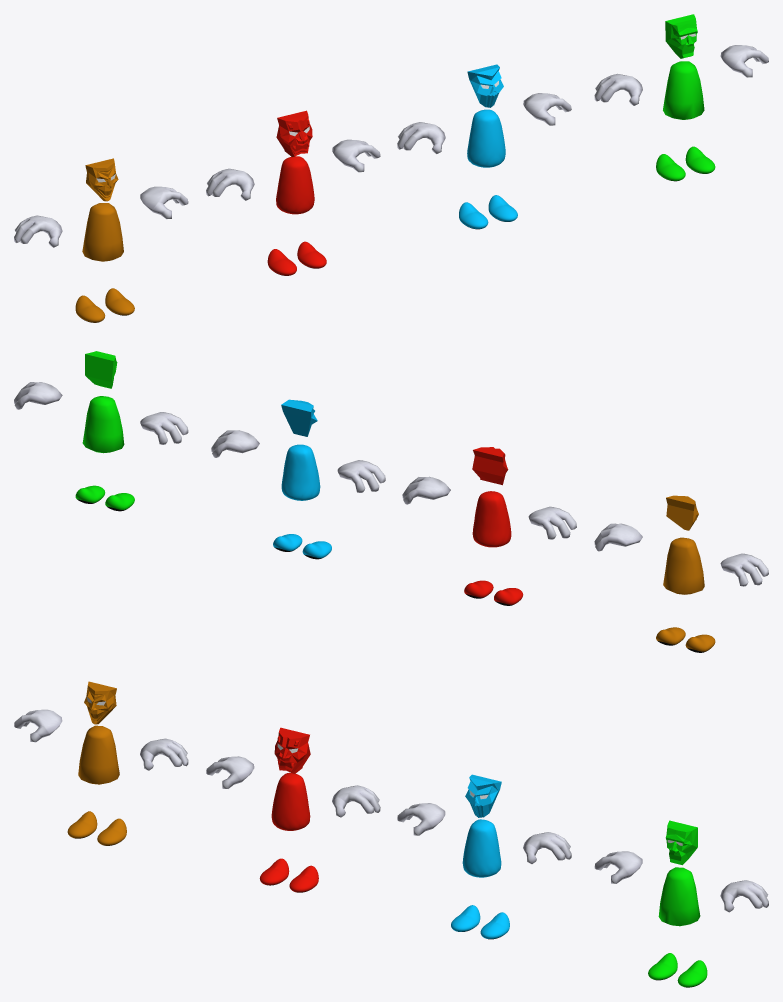
The model's file is 4perso.fbx.
The picture shows the model from 3 angles, top to bottom: view 1: azimuth 30°, elevation 25°; view 2: azimuth 150°, elevation 25°; view 3: azimuth 330°, elevation 25°; orthographic projection.
Visible parts, largest first — view 1: Halloween Joker Mask, Rayman.004_Rayman.003, Sphere.006, Sphere.007, Halloween Demon Mask.001, Halloween Frankenstein Mask.001, Halloween Ghost Mask.001, Halloween Joker Mask.007, Rayman.003, Rayman.002, Rayman.004, Halloween Joker Mask.009 (+4 smaller); view 2: Halloween Joker Mask, Rayman.004_Rayman.003, Sphere.007, Sphere.006, Halloween Demon Mask.001, Rayman.004, Halloween Joker Mask.009, Rayman.002, Rayman.003, Halloween Frankenstein Mask.001, Halloween Ghost Mask.001, Rayman.005 (+4 smaller); view 3: Rayman.004_Rayman.003, Halloween Joker Mask, Sphere.006, Sphere.007, Halloween Demon Mask.001, Halloween Frankenstein Mask.001, Halloween Ghost Mask.001, Halloween Joker Mask.007, Rayman.001, Halloween Joker Mask.008, Rayman.006, Rayman.005 (+4 smaller).
Boxes of the visible parts, x1,y1,x2,y2 form: Halloween Joker Mask: [75, 203, 134, 322]; Rayman.004_Rayman.003: [656, 61, 715, 181]; Sphere.006: [267, 156, 326, 275]; Sphere.007: [459, 109, 517, 229]; Halloween Demon Mask.001: [276, 110, 312, 156]; Halloween Frankenstein Mask.001: [665, 14, 697, 58]; Halloween Ghost Mask.001: [467, 64, 503, 107]; Halloween Joker Mask.007: [85, 158, 118, 201]; Rayman.003: [594, 73, 642, 105]; Rayman.002: [397, 122, 445, 153]; Rayman.004: [206, 168, 254, 200]; Halloween Joker Mask.009: [14, 215, 62, 247]; Halloween Joker Mask: [656, 537, 715, 652]; Rayman.004_Rayman.003: [75, 396, 134, 511]; Sphere.007: [273, 444, 331, 559]; Sphere.006: [464, 491, 523, 605]; Halloween Demon Mask.001: [472, 447, 508, 485]; Rayman.004: [528, 506, 576, 539]; Halloween Joker Mask.009: [720, 553, 768, 586]; Rayman.002: [337, 460, 385, 492]; Rayman.003: [140, 412, 188, 444]; Halloween Frankenstein Mask.001: [85, 351, 117, 388]; Halloween Ghost Mask.001: [281, 399, 317, 436]; Rayman.005: [211, 430, 259, 457]; Rayman.004_Rayman.003: [648, 867, 707, 987]; Halloween Joker Mask: [67, 725, 126, 845]; Sphere.006: [259, 772, 318, 892]; Sphere.007: [451, 819, 509, 939]; Halloween Demon Mask.001: [274, 727, 310, 773]; Halloween Frankenstein Mask.001: [665, 820, 697, 865]; Halloween Ghost Mask.001: [465, 774, 501, 817]; Halloween Joker Mask.007: [84, 681, 116, 724]; Rayman.001: [332, 785, 380, 817]; Halloween Joker Mask.008: [140, 738, 188, 770]; Rayman.006: [720, 880, 768, 912]; Rayman.005: [523, 832, 571, 863].
Size of the model in its own units: 3460 by 673 by 207.
Materials: 10 (1 with a texture image).
